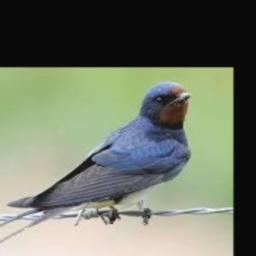Swallow: (0, 81, 192, 256)
